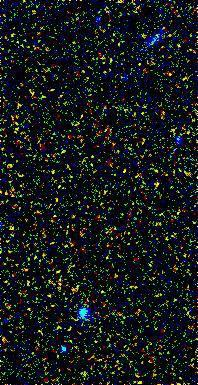star: (0, 323, 17, 353)
